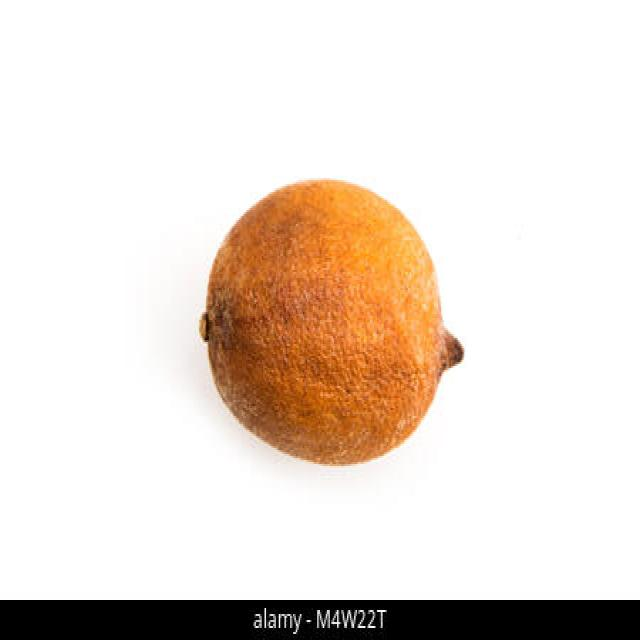overripe: (193, 171, 468, 467)
